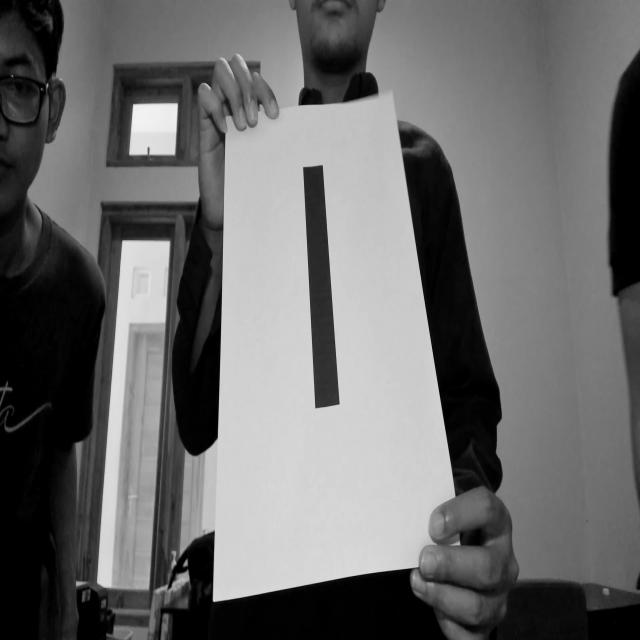i: (290, 136, 371, 488)
